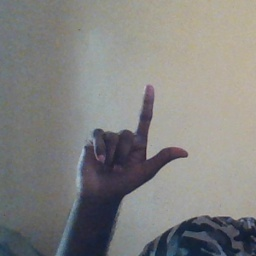L: (72, 82, 192, 200)
